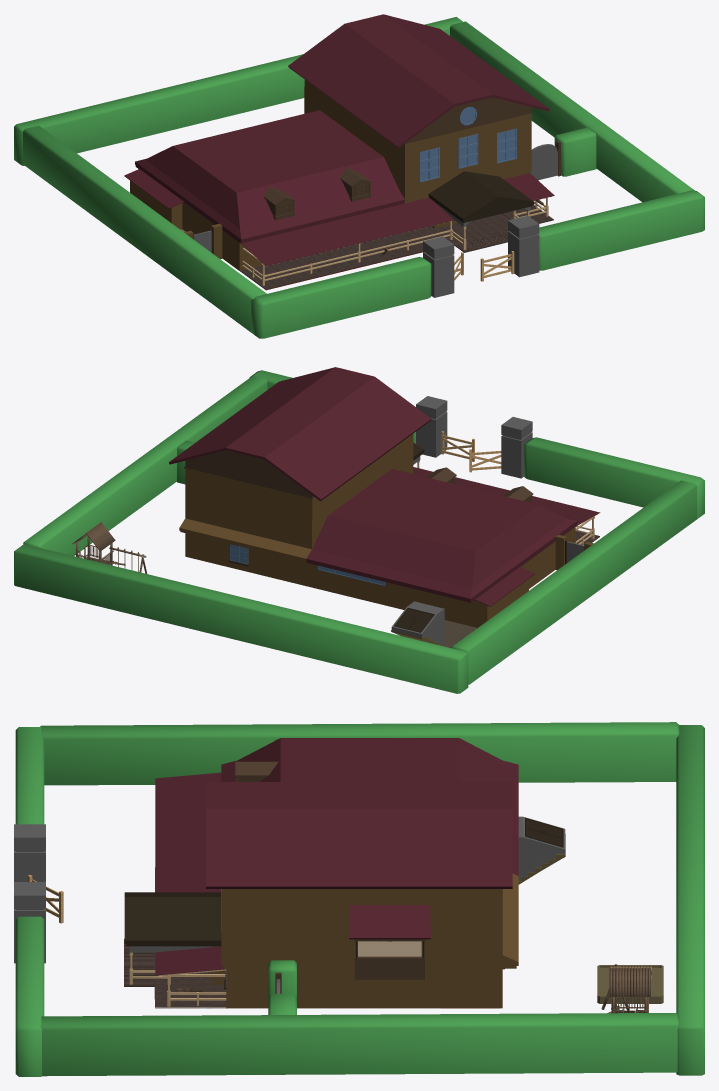
Rendered from house.glb.
3 renders of one model, top to bottom at view 1: azimuth 30°, elevation 25°; view 2: azimuth 150°, elevation 25°; view 3: azimuth 270°, elevation 25°, orthographic. The views are drawn at different scales.
Visible parts, largest first — view 1: Ar21-col, Plane.021, Plane.012, Pared-col, Plane.006, 1st_floor-col.001, Cube.016, Pilares-col, Pared 1-col, Plane.011, Ventanales-col, Madera-col.001 (+3 smaller); view 2: Ar21-col, Plane.021, Plane.012, Pared-col, Pared 1-col, Pilares-col, Plane.011, Playground -col, Plane.006, Plane.007, Zatano sup -col, Ventanas-col (+2 smaller); view 3: Ar21-col, Plane.012, Pared-col, Plane.021, Pared 1-col, Plane.006, Cube.016, Pilares-col, 1st_floor-col.001, Playground -col, Cube.026, Palco-col (+5 smaller).
Boxes of the visible parts, x1,y1,x2,y2 form: Ar21-col: (14, 17, 704, 338); Plane.021: (135, 110, 404, 243); Plane.012: (288, 14, 549, 147); Pared-col: (304, 79, 531, 203); Plane.006: (241, 173, 554, 265); 1st_floor-col.001: (240, 205, 553, 290); Cube.016: (428, 171, 534, 221); Pilares-col: (423, 215, 539, 297); Pared 1-col: (130, 180, 457, 270); Plane.011: (405, 97, 531, 143); Ventanales-col: (420, 128, 516, 182); Madera-col.001: (242, 196, 551, 285); Ar21-col: (14, 370, 704, 693); Plane.021: (306, 469, 577, 602); Plane.012: (169, 367, 431, 501); Pared-col: (179, 434, 413, 562); Pared 1-col: (185, 527, 575, 627); Pilares-col: (416, 396, 532, 478); Plane.011: (185, 450, 313, 498); Playground -col: (72, 522, 147, 573); Plane.006: (413, 467, 600, 525); Plane.007: (475, 567, 535, 606); Zatano sup -col: (391, 601, 444, 636); Ventanas-col: (230, 544, 385, 585); Ar21-col: (15, 722, 704, 1076); Plane.012: (206, 782, 512, 888); Pared-col: (221, 874, 518, 968); Plane.021: (221, 738, 518, 875); Pared 1-col: (211, 946, 502, 1008); Plane.006: (155, 772, 225, 975); Cube.016: (124, 892, 221, 944); Pilares-col: (14, 824, 45, 963); 1st_floor-col.001: (124, 867, 499, 1008); Playground -col: (597, 964, 663, 1013); Cube.026: (349, 905, 430, 939); Palco-col: (353, 939, 426, 979).
Bounding box in the file's own units: 50.02 × 16.24 × 48.03.
29 materials, 16 textured.
